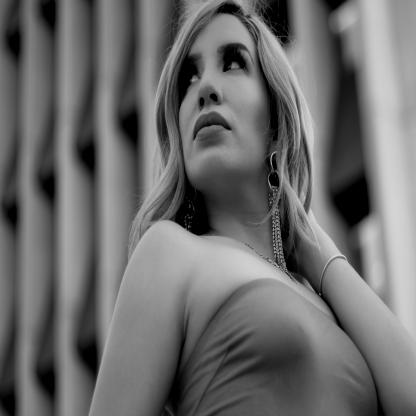jacket: (163, 267, 380, 416)
